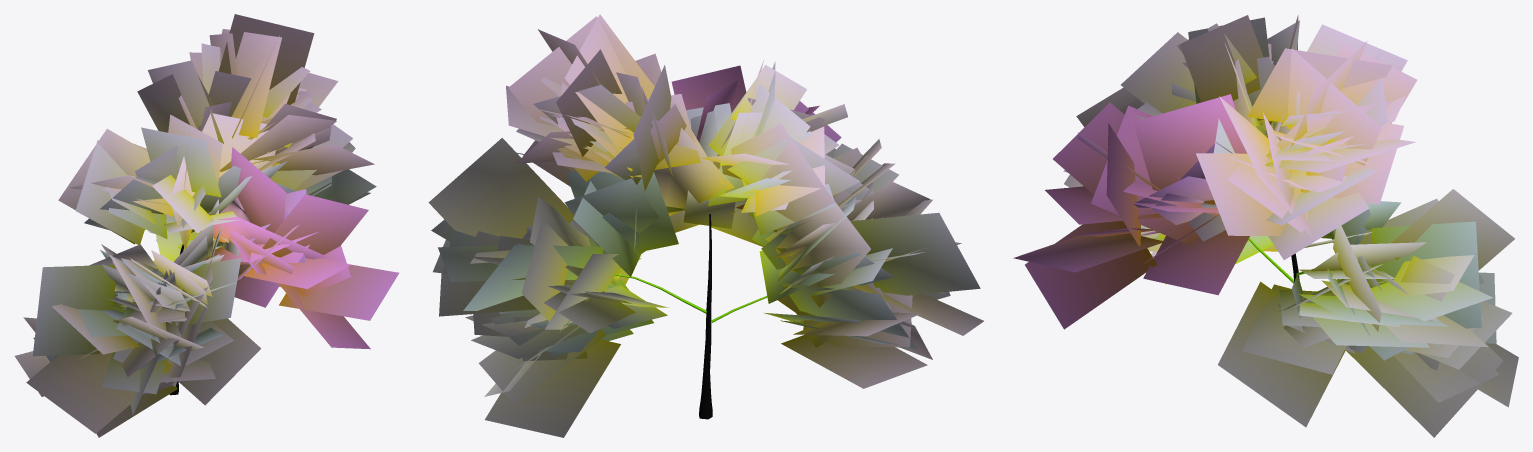
The model's file is tree_pagoda_d_lod1.glb.
3 views of the same model, side by side, from view 1: azimuth 30°, elevation 25°; view 2: azimuth 150°, elevation 25°; view 3: azimuth 270°, elevation 25° (orthographic). The views are drawn at different scales.
Parts seen in each view (by area): view 1: tree_pagoda_d_lod1; view 2: tree_pagoda_d_lod1; view 3: tree_pagoda_d_lod1.
Boxes of the visible parts, bbox=[...] form: tree_pagoda_d_lod1: bbox=[14, 14, 399, 437]; tree_pagoda_d_lod1: bbox=[428, 14, 983, 437]; tree_pagoda_d_lod1: bbox=[1013, 15, 1518, 437].
Bounding box in the file's own units: 20.8 × 16.22 × 18.81.
